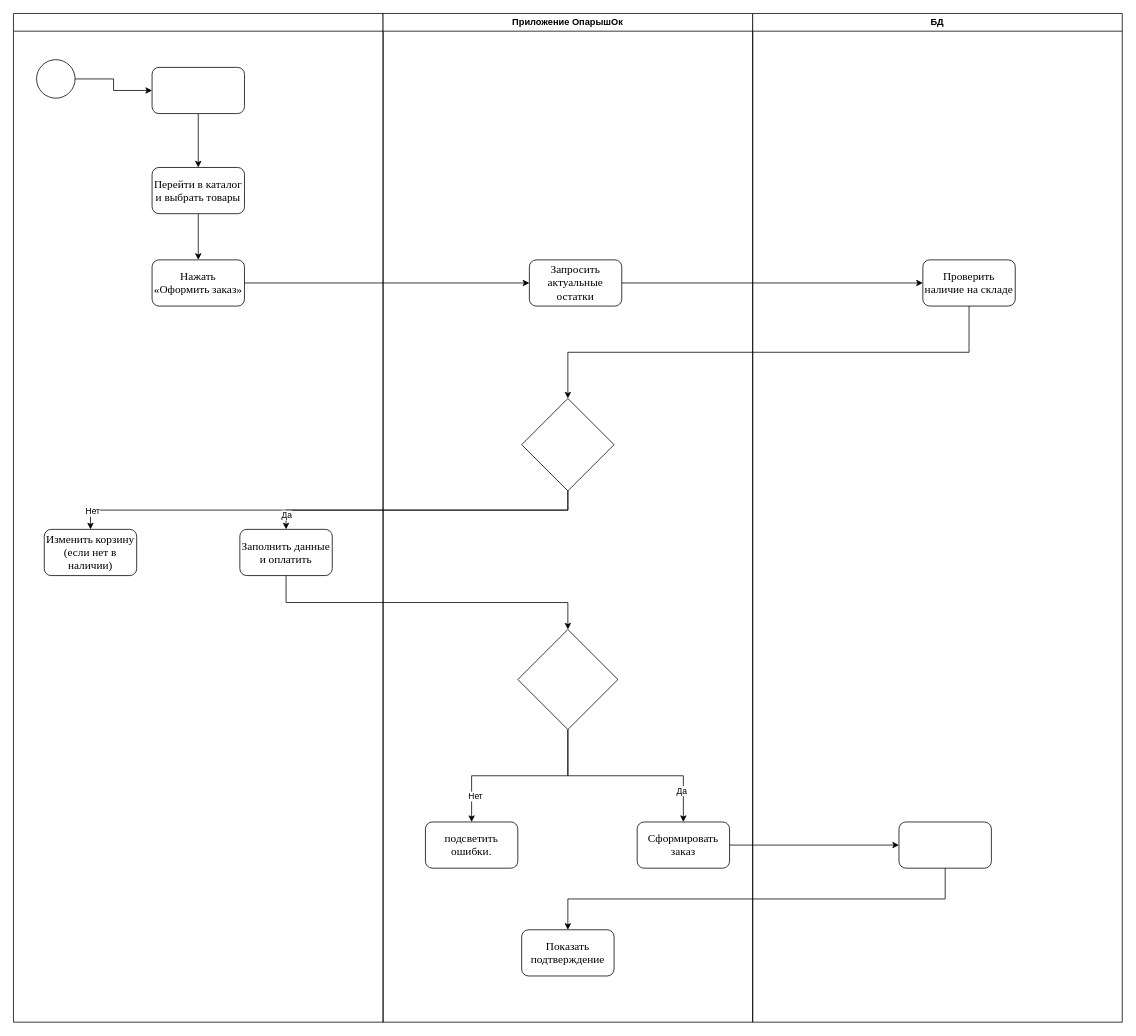
Some shapes in this 1136 by 1036 pixel diagram are drawn without their labels. Each missing label, with the box of its shape:
«Все товары в наличии?»: (521, 398, 614, 491)
«Данные корректны?»: (517, 629, 618, 730)
Открыть приложение и авторизоваться: (151, 67, 244, 114)
Покупатель: (13, 13, 383, 1022)
Создать запись заказа и списать остатки: (898, 821, 991, 868)
